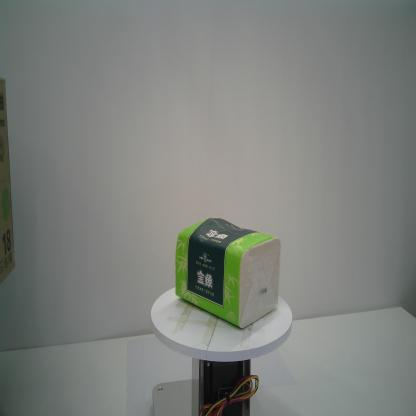Tissue: (173, 213, 281, 330)
